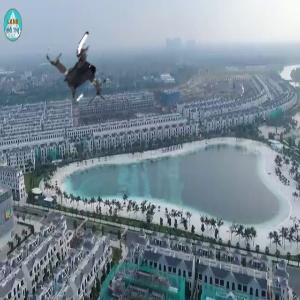drone: (43, 23, 131, 111)
